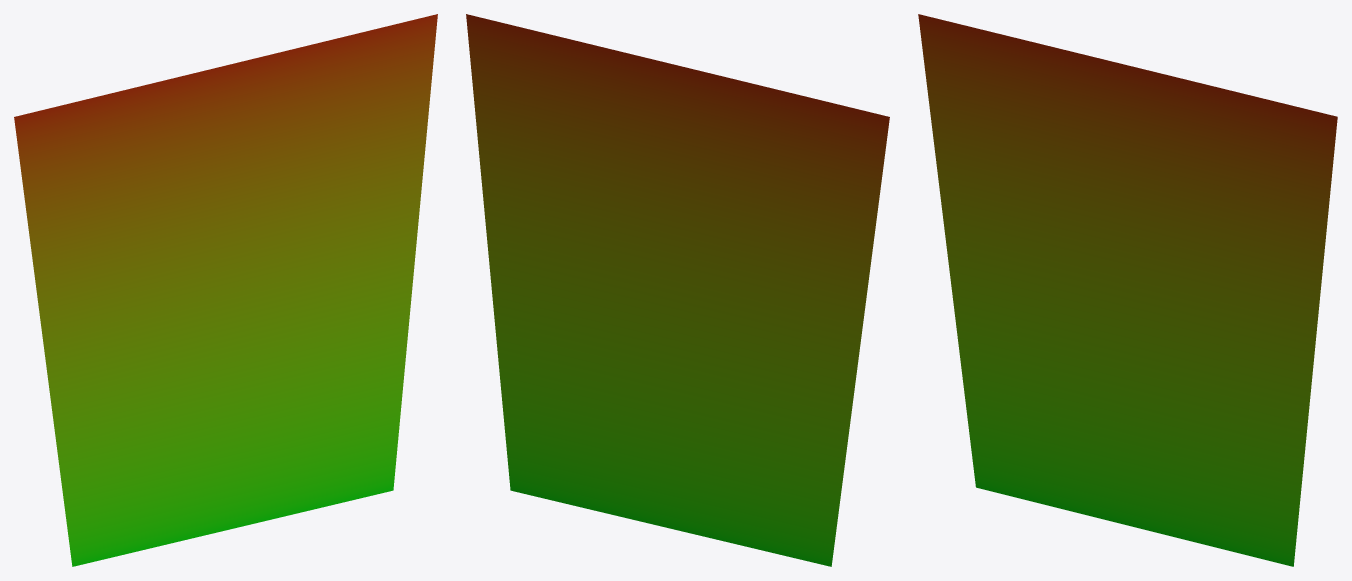
The model's file is Aloe Vera_LOD4_Var10_ve4tbbrha.fbx.
3 views of the same model, side by side, from view 1: azimuth 30°, elevation 25°; view 2: azimuth 150°, elevation 25°; view 3: azimuth 330°, elevation 25° (orthographic).
Parts seen in each view (by area): view 1: _8l8c_Var10_LOD4; view 2: _8l8c_Var10_LOD4; view 3: _8l8c_Var10_LOD4.
Part boxes in pixels (x1,y1,x2,y2): _8l8c_Var10_LOD4: [14, 14, 437, 566]; _8l8c_Var10_LOD4: [466, 14, 889, 566]; _8l8c_Var10_LOD4: [918, 14, 1337, 566].
Bounding box in the file's own units: 49.13 × 51.63 × 8.68e-06.
